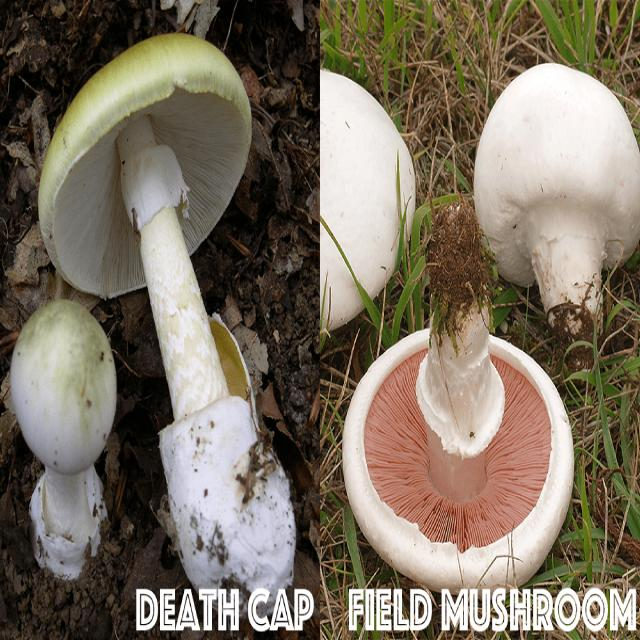death-cap: (36, 33, 294, 588), (6, 299, 119, 585)
field-mushroom: (342, 203, 575, 596), (473, 63, 640, 334)
